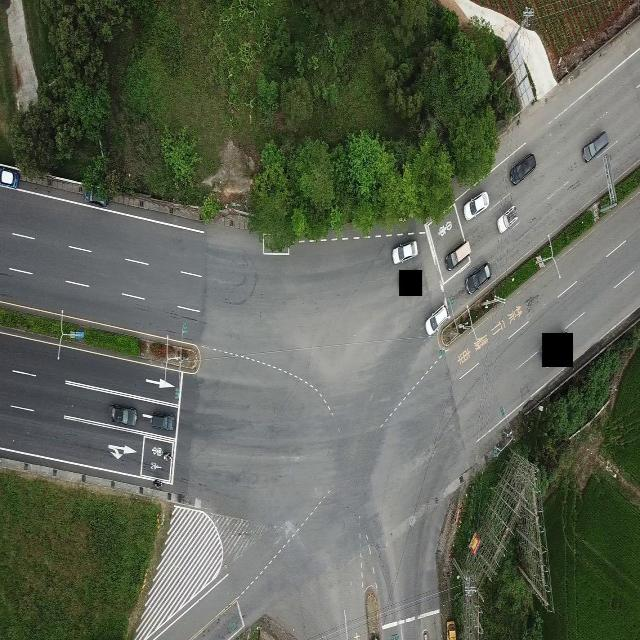bike: (150, 479, 166, 489), (162, 453, 173, 463)
car: (148, 402, 182, 431), (509, 151, 535, 184), (582, 129, 608, 161), (465, 260, 490, 293), (426, 301, 449, 336), (445, 240, 471, 270), (392, 237, 419, 265), (463, 190, 489, 219), (109, 403, 137, 426), (497, 204, 518, 233), (84, 185, 109, 206), (0, 163, 19, 188)
